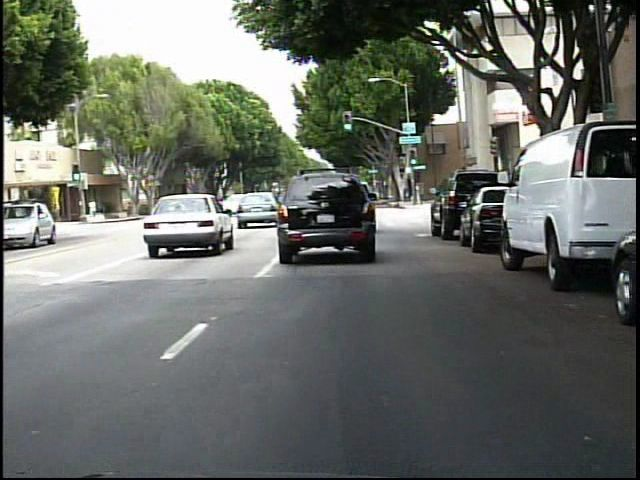person: (88, 198, 100, 221)
